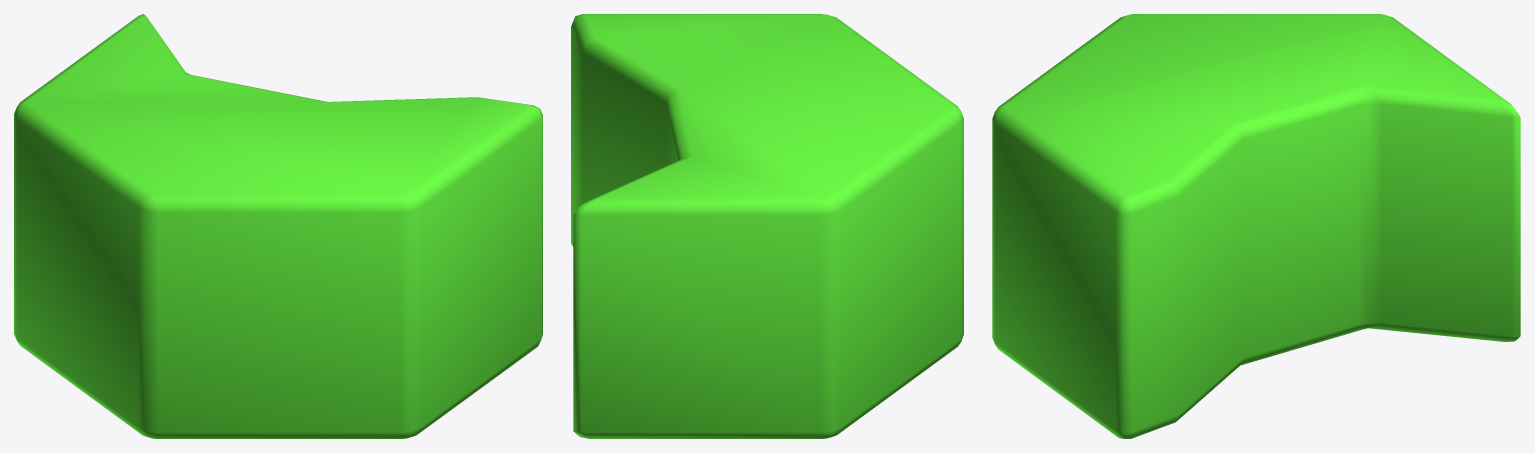
Rendered from grass_border1.glb.
3 views of the same model, side by side, from view 1: azimuth 30°, elevation 25°; view 2: azimuth 150°, elevation 25°; view 3: azimuth 270°, elevation 25° (orthographic).
Parts seen in each view (by area): view 1: grass_border1; view 2: grass_border1; view 3: grass_border1.
Boxes of the visible parts, box(x1,y1,x2,y2) form: grass_border1: box(14, 14, 542, 438); grass_border1: box(571, 14, 963, 438); grass_border1: box(992, 14, 1520, 438).
Size of the model in its own units: 6.84 by 4 by 7.89.
